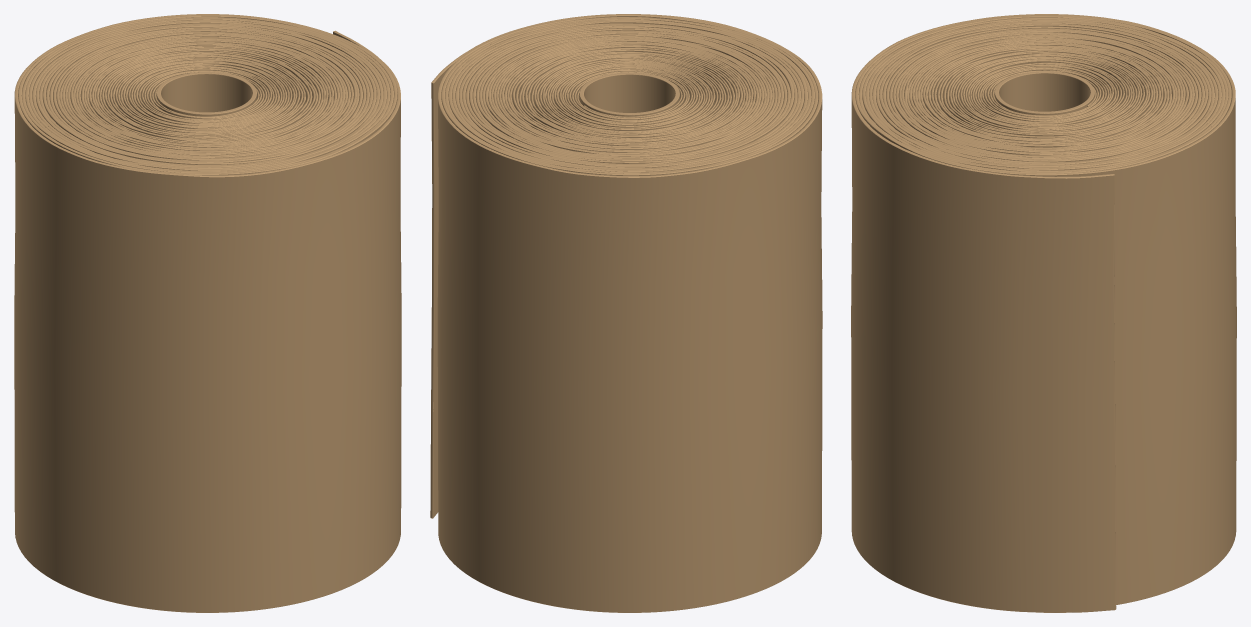
Rendered from consumable_absorbent_roll_b01.glb.
The picture shows the model from 3 angles, left to right: view 1: azimuth 30°, elevation 25°; view 2: azimuth 150°, elevation 25°; view 3: azimuth 270°, elevation 25°; orthographic projection.
Size of the model in its own units: 0.319 by 0.3978 by 0.317.
